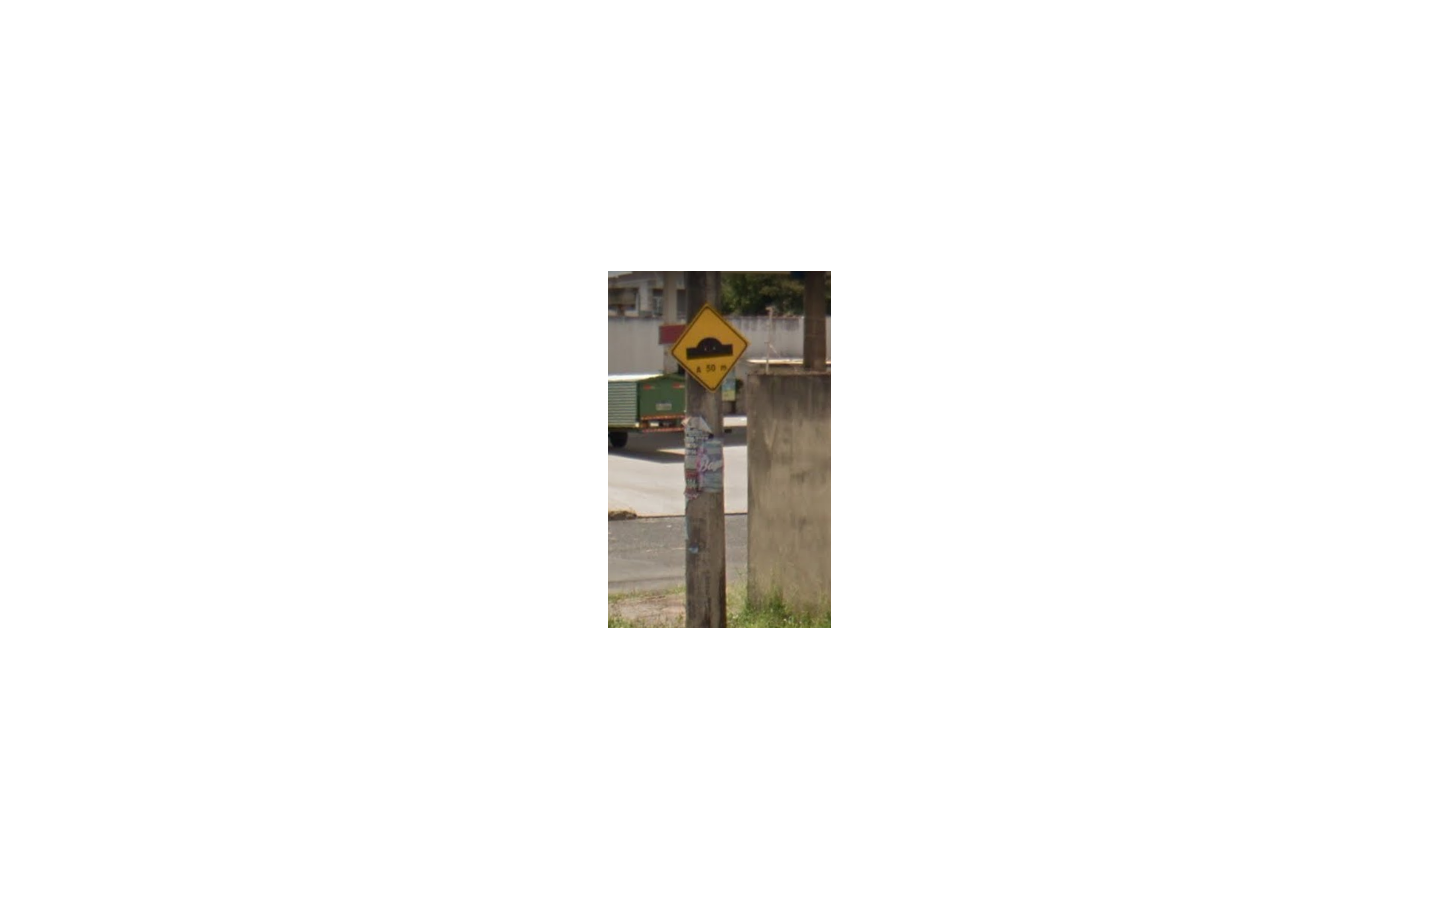l50m: (669, 304, 750, 393)
